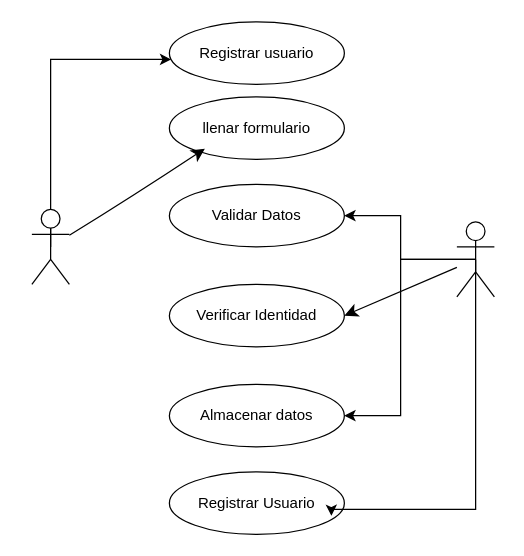
Image size: 524x556. Some labels were removed from this diagram. Here are the shapes that lost their labels. From the top down, the box of each, then its label:
(31, 208, 69, 284): Personal
(456, 221, 494, 297): Sistema
